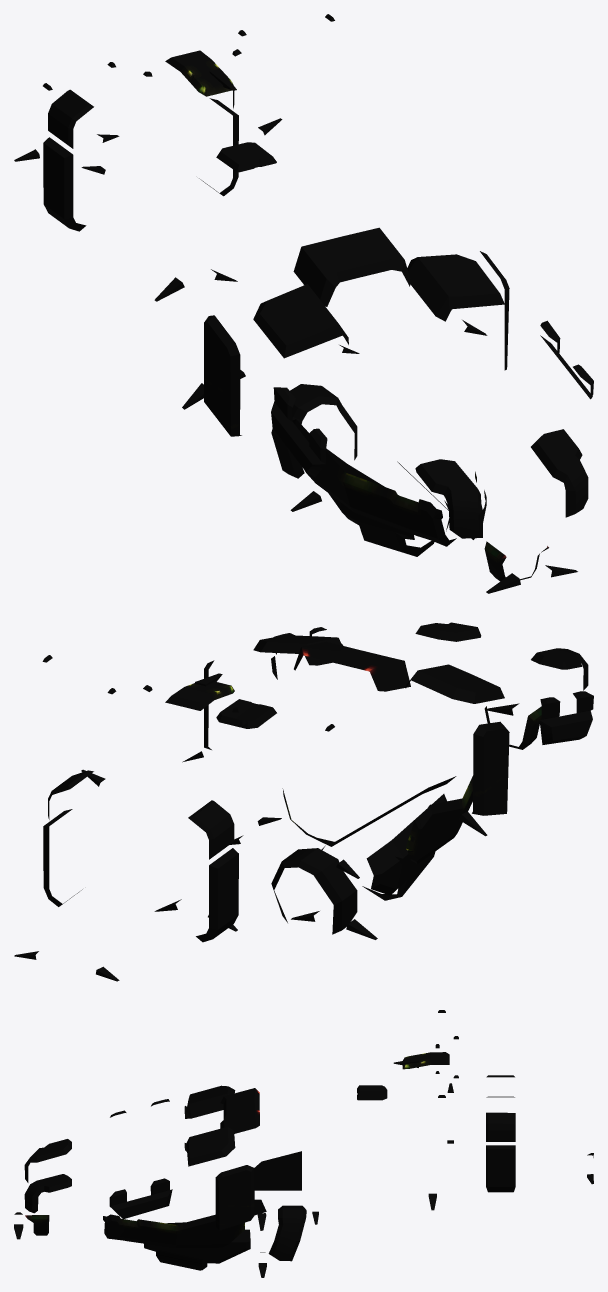
File: tan_cf_miss_01_t3.glb
The picture shows the model from 3 angles, top to bottom: view 1: azimuth 30°, elevation 25°; view 2: azimuth 150°, elevation 25°; view 3: azimuth 270°, elevation 25°; orthographic projection. The views are drawn at different scales.
Parts seen in each view (by area): view 1: tan_missile_frigate_01_t3_LOD0; view 2: tan_missile_frigate_01_t3_LOD0; view 3: tan_missile_frigate_01_t3_LOD0.
Boxes of the visible parts, bbox=[...] form: tan_missile_frigate_01_t3_LOD0: bbox=[14, 14, 593, 593]; tan_missile_frigate_01_t3_LOD0: bbox=[14, 622, 593, 981]; tan_missile_frigate_01_t3_LOD0: bbox=[14, 1010, 593, 1277].
Size of what is drawn, in the model's own units: 1.19 by 1.33 by 3.2.
Materials: 1 (1 with a texture image).
